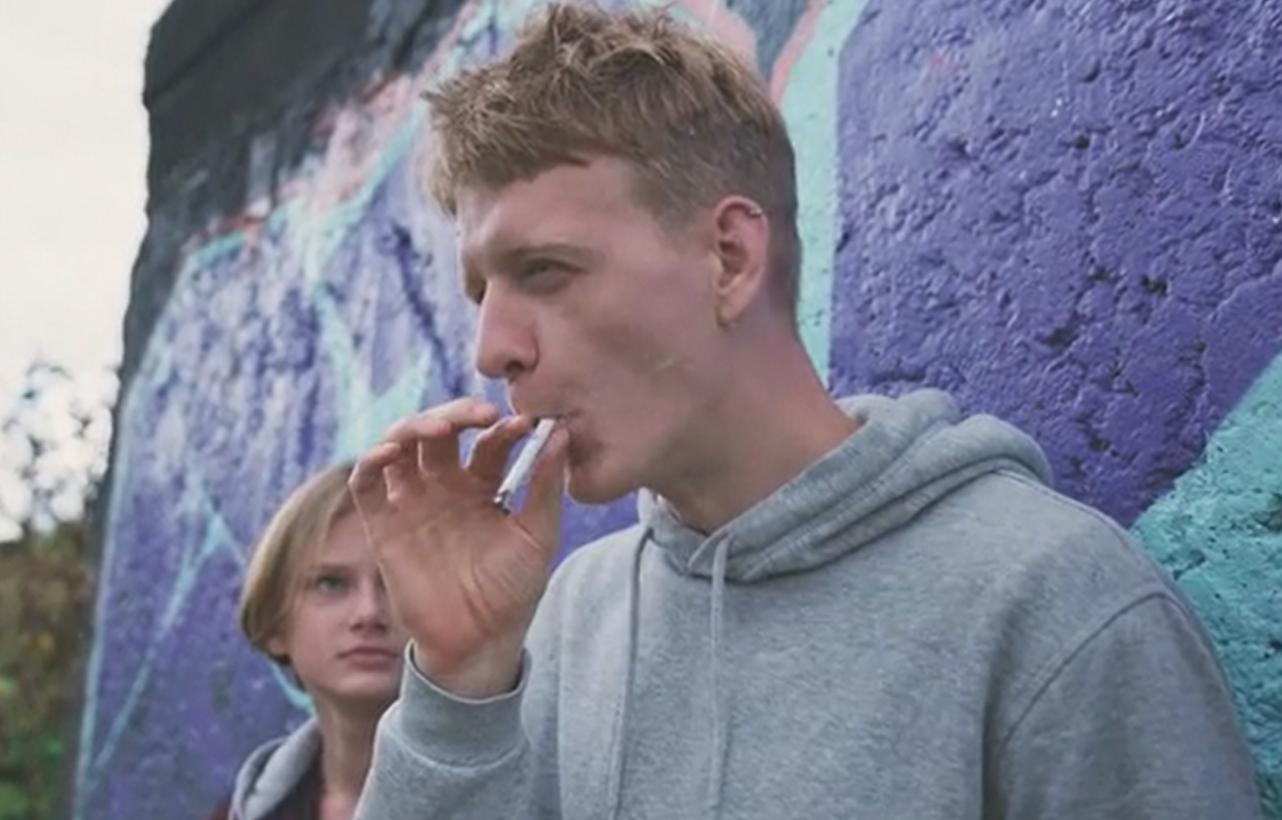smoker: (307, 4, 873, 657)
